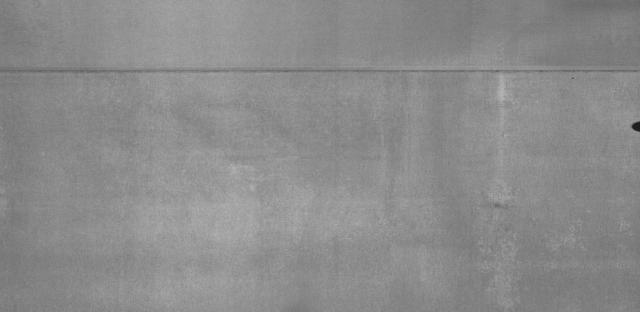punching_hole: (629, 117, 640, 134)
welding_line: (1, 58, 640, 82)
